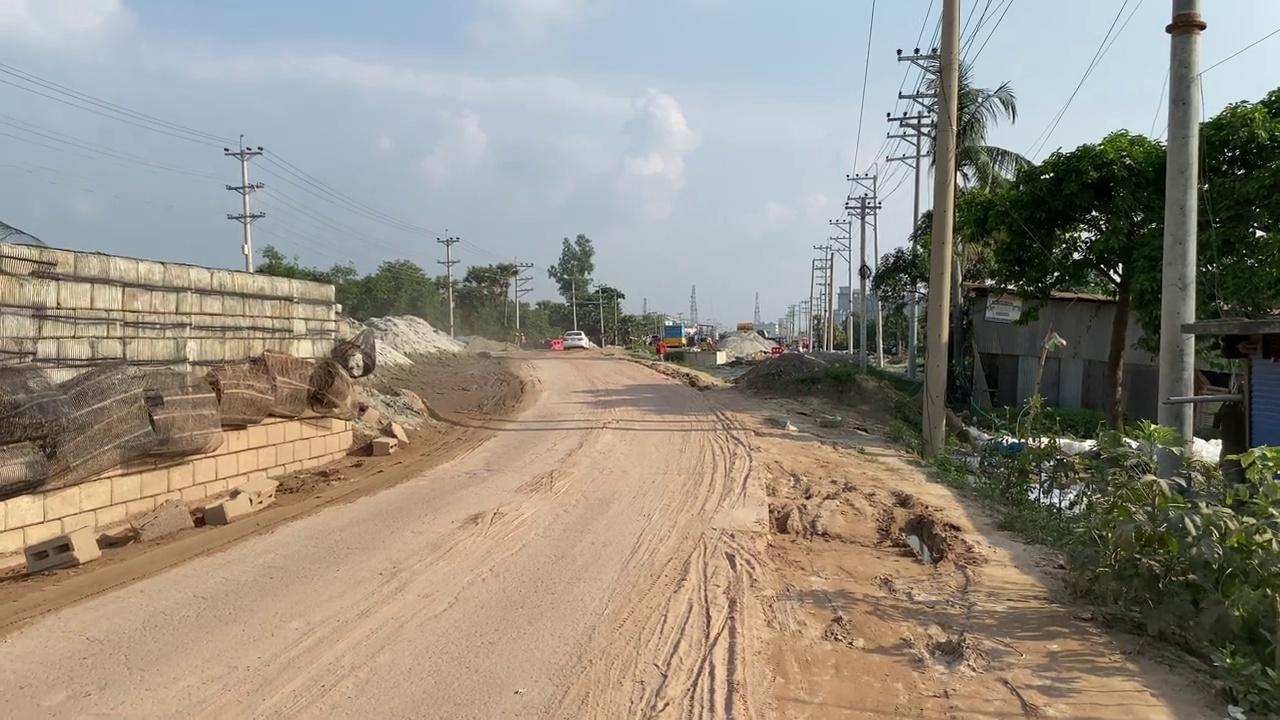Car: (561, 330, 589, 350)
Muddy road: (1, 343, 1232, 717)
Obstacle: (22, 523, 101, 573)
Pole: (1155, 1, 1205, 473), (919, 0, 960, 460)
Rickshaw: (630, 351, 1233, 718)
Traffic-sign: (546, 232, 595, 332)
Tree: (642, 314, 716, 351), (662, 323, 686, 347)
